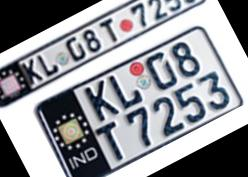plate: (23, 8, 248, 177)
